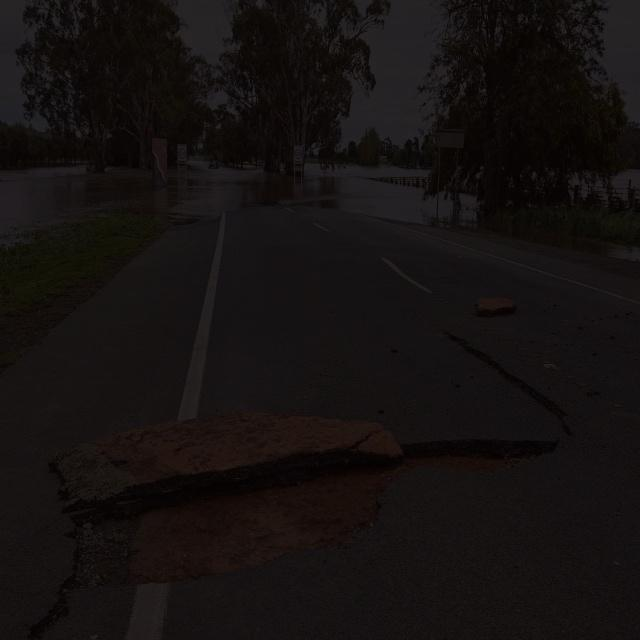Pothole: (49, 411, 553, 585), (451, 325, 564, 423)
